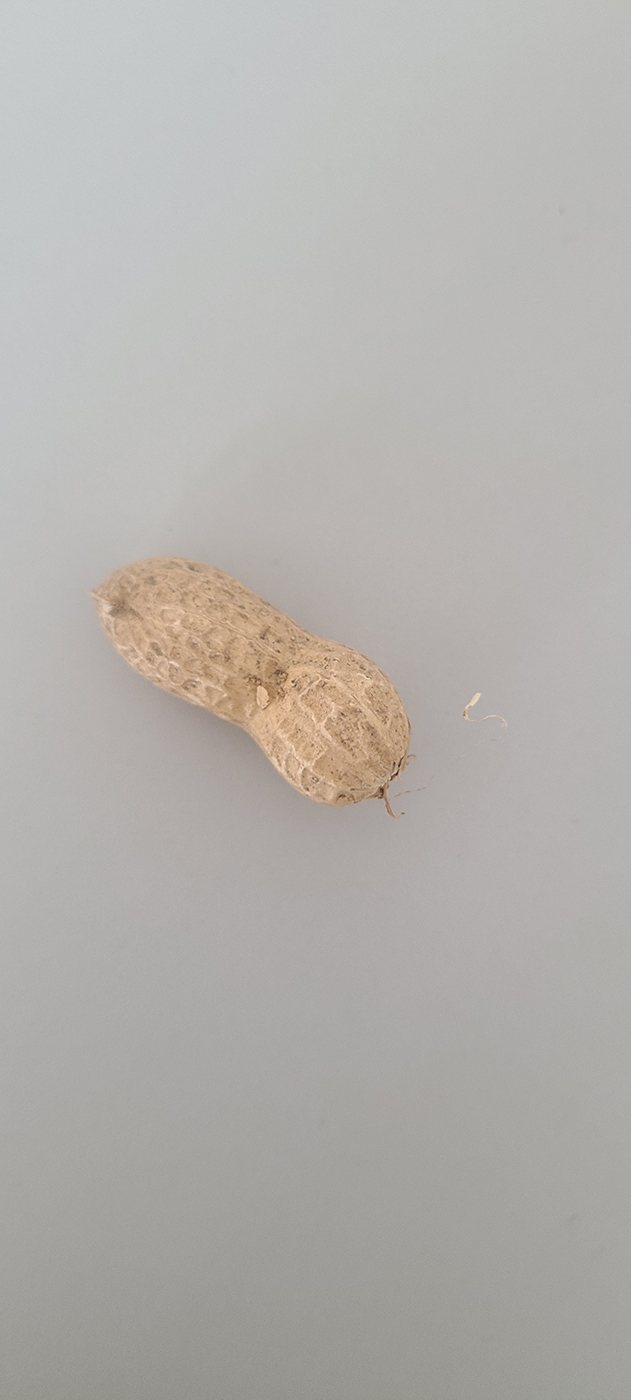h: (90, 557, 411, 810)
